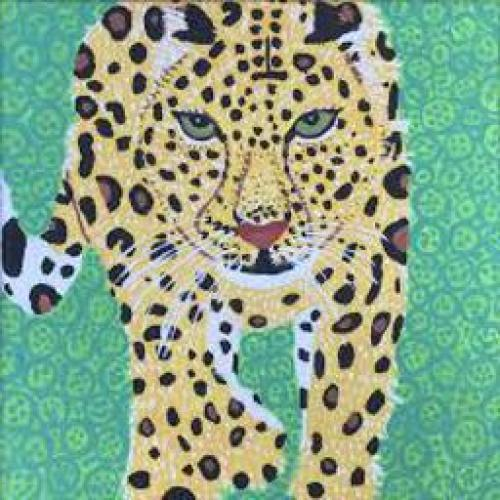amur_leopard-endangered: (68, 0, 411, 500)
